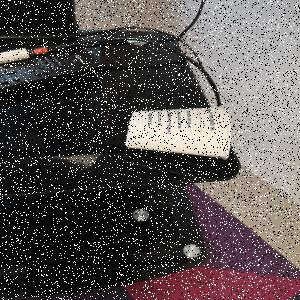Cup: (125, 106, 234, 162)
